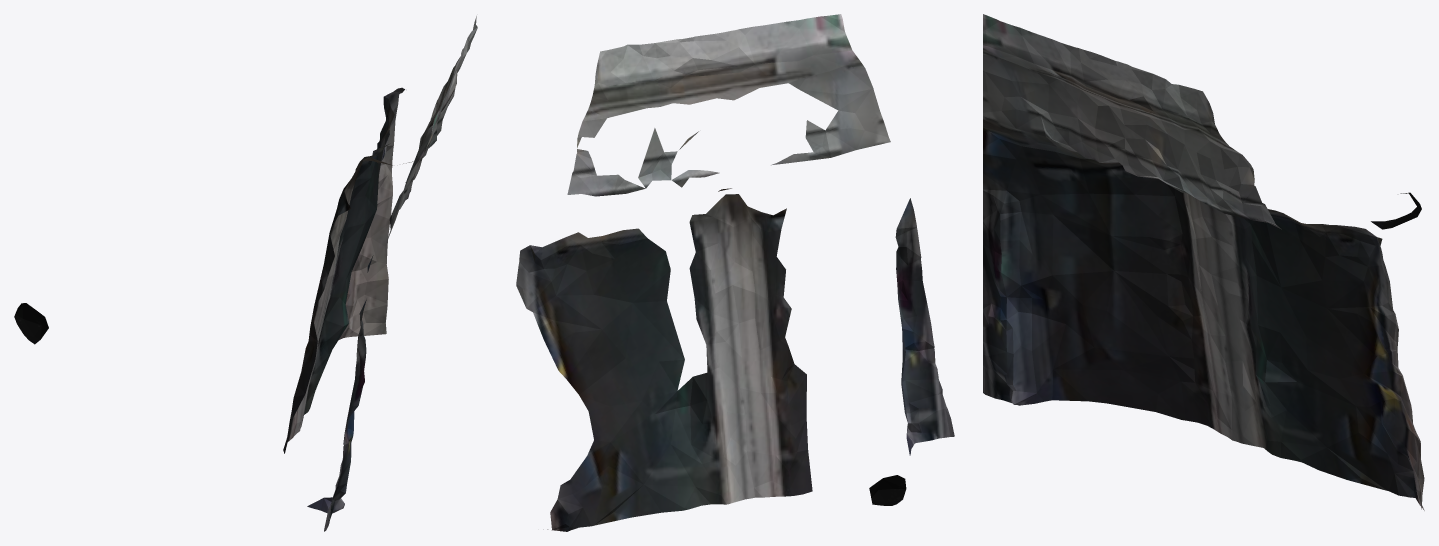
3 renders of one model, left to right at view 1: azimuth 30°, elevation 25°; view 2: azimuth 150°, elevation 25°; view 3: azimuth 270°, elevation 25°, orthographic. The views are drawn at different scales.
Bounding box in the file's own units: 0.8373 × 0.8374 × 0.7611.
Materials: 3 (3 with a texture image).
